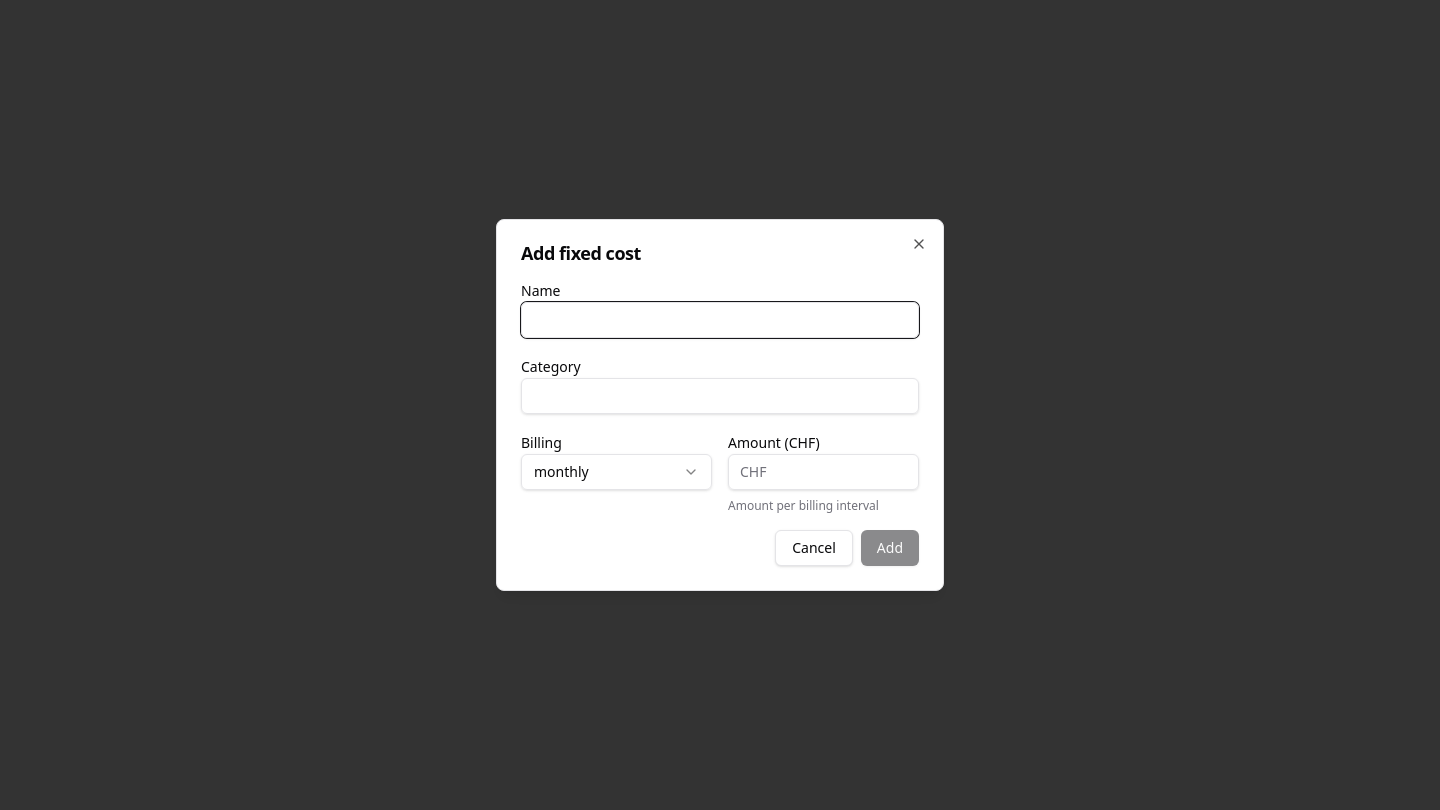
FixedCostDialog › category combobox › selects a suggestion with arrow keys and enter
Click the dropdown labelled "Category": (720, 396) 521,378 -> 919,414
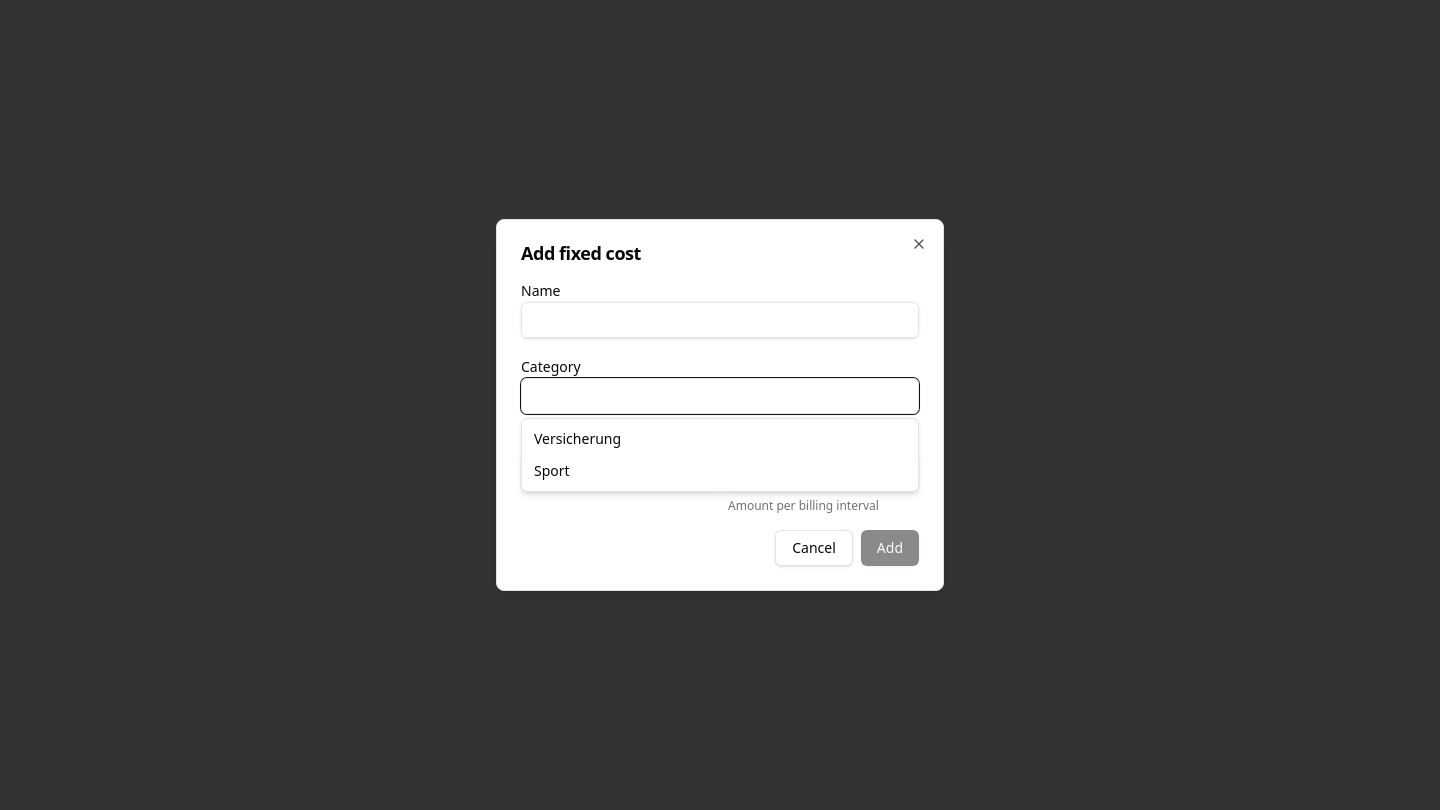
Press Arrowdown Arrowdown Enter
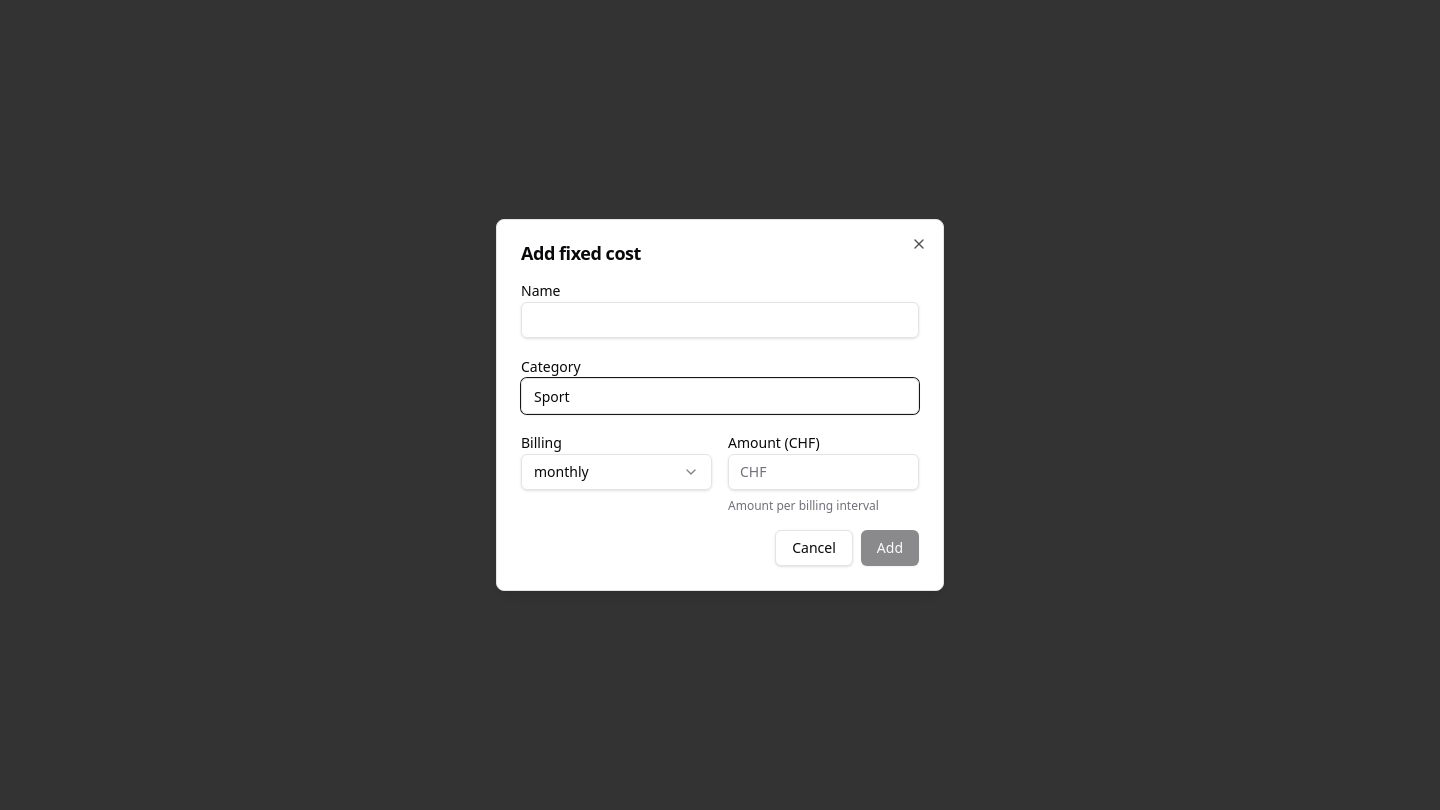
Now the dropdown labelled "Category" holds "Sport", box 521,378 -> 919,414
